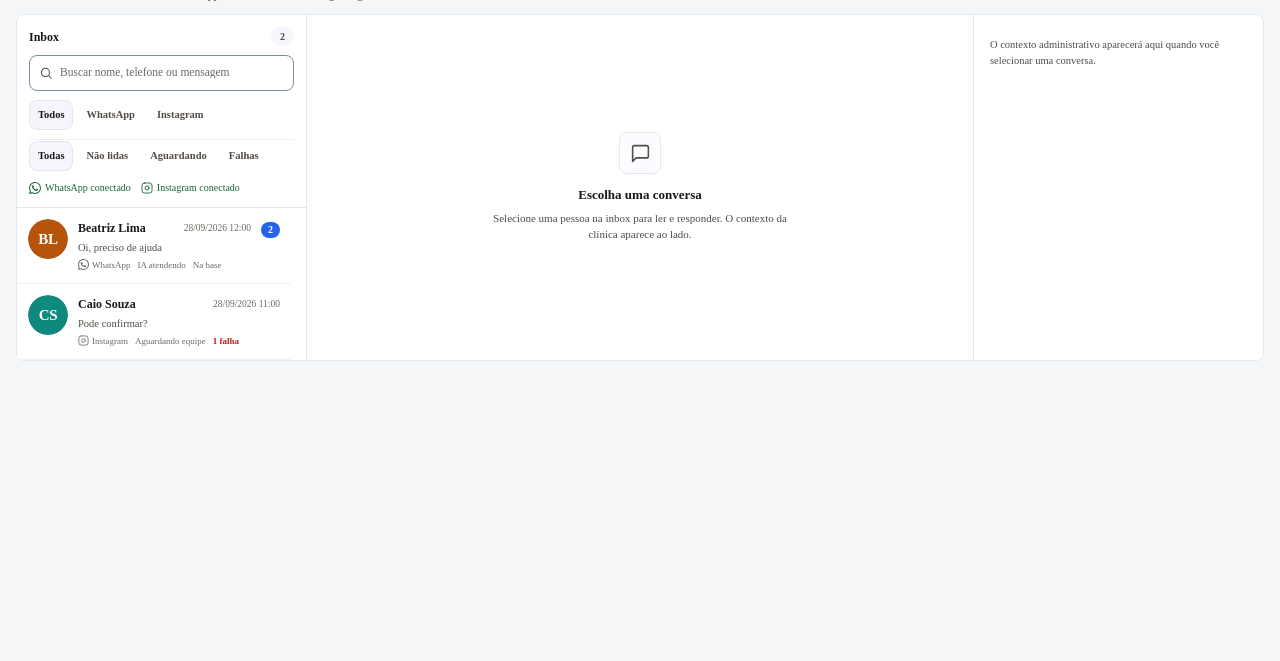
Test case: workspace operacional de Conversas › rascunho fica por conversa e envio manual otimista assume equipe, sem pausar ao digitar
This screenshot has width=1280, height=661.
Check: the element named "Inbox de conversas" is shown, box [17,15,307,360]
Click the button "Beatriz Lima" at (154,246), box [17,208,291,284]
(page scrolled)
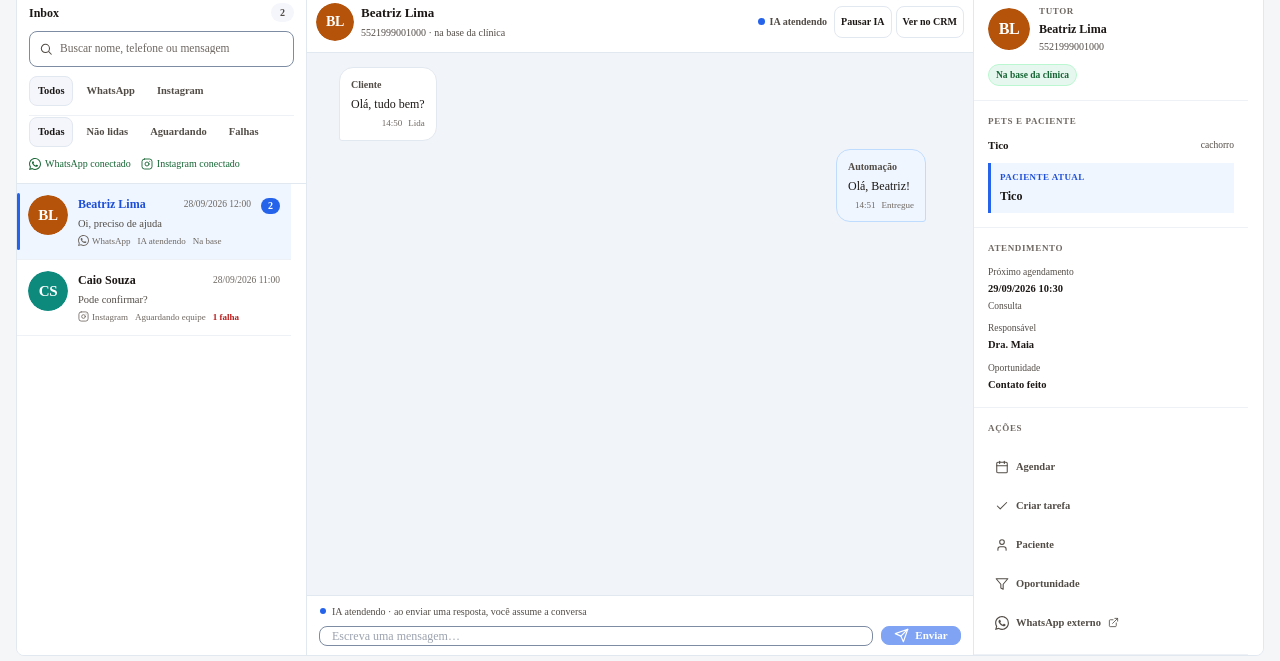
Check: the heading "Beatriz Lima" in the row of "Ver no CRM" is shown, box [361,5,434,20]
Check: the field labelled "mensagem" is empty
Check: the element named "Mensagens com Beatriz" is shown, box [307,53,973,595]
Type "rascunho da Beatriz" into the field labelled "mensagem" at (596,636), box [319,626,873,646]
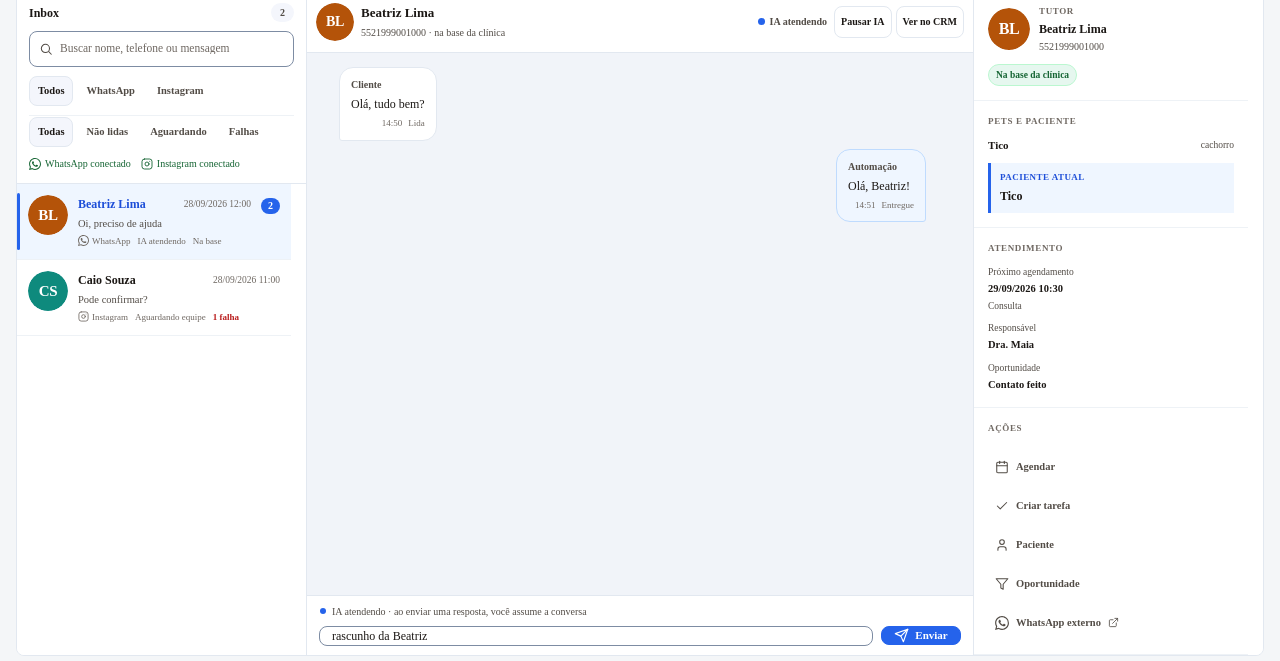
Check: the text "IA atendendo · ao enviar uma resposta, você assume a conversa" is shown, box [332,606,587,617]
Check: the message reads "IA atendendo", box [770,16,827,27]
Click the button "Caio Souza" at (48,291), box [17,260,291,336]
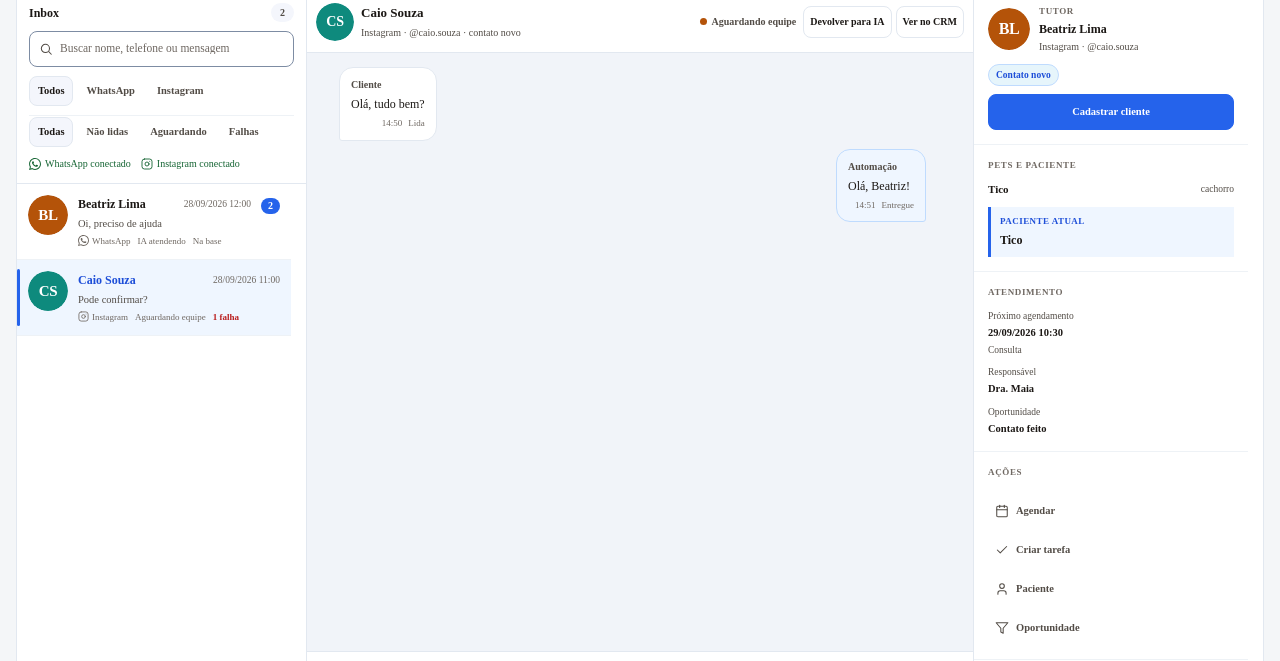
Check: the heading "Caio Souza" is shown, box [361,5,424,20]
Click the button "Beatriz Lima" at (154,222), box [17,184,291,260]
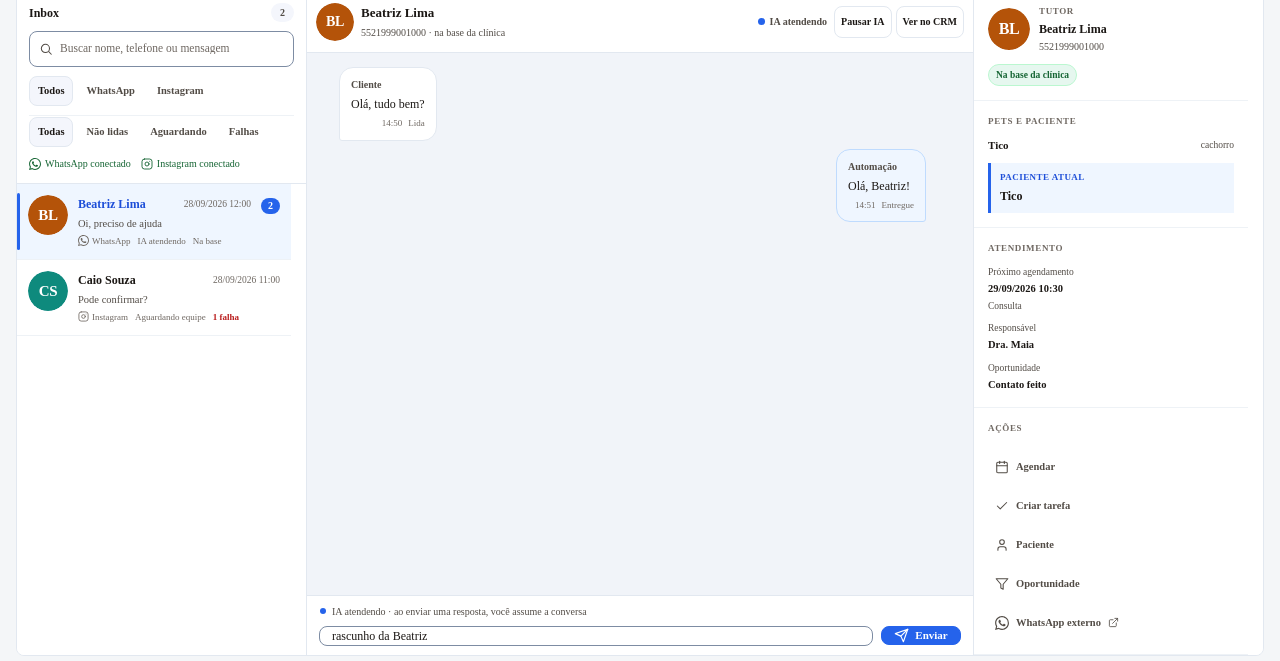
Check: the heading "Beatriz Lima" in the row of "Ver no CRM" is shown, box [361,5,434,20]
Click the button "Enviar" at (921,636), box [881,626,961,645]
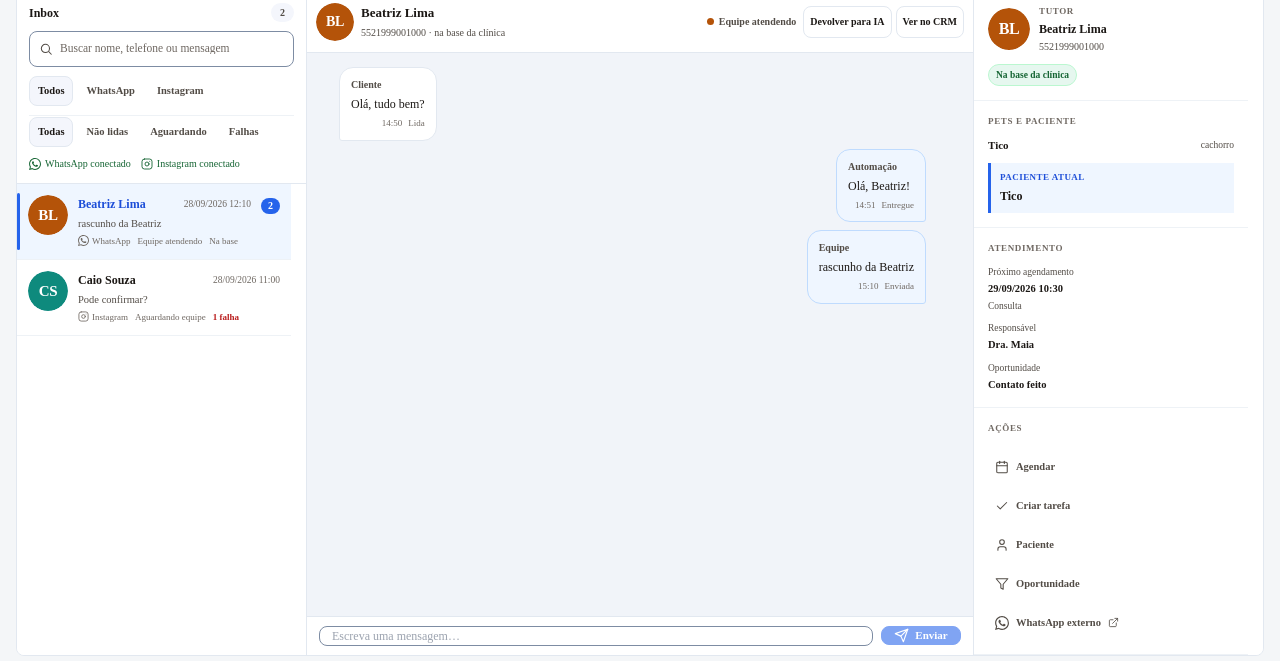
Check: the message reads "Equipe atendendo", box [719,16,796,27]
Check: the button "Devolver para IA" is shown, box [803,6,892,38]
Check: the text "ao enviar uma resposta, você assume" is gone
